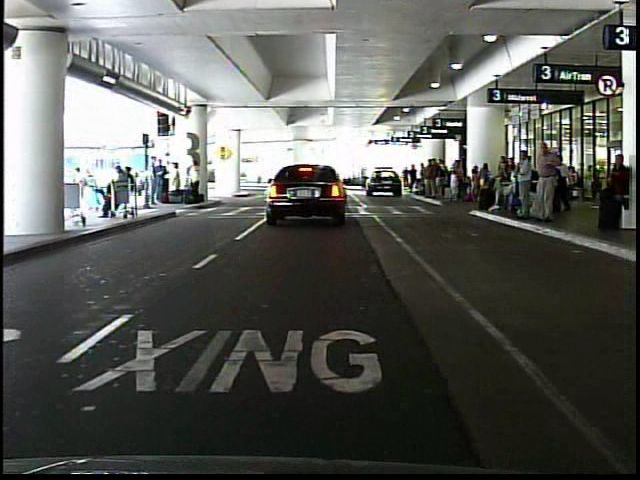person: (529, 136, 565, 229), (597, 151, 628, 230), (514, 147, 533, 223), (76, 160, 100, 217), (154, 157, 169, 204), (187, 158, 202, 202), (171, 160, 185, 203), (402, 165, 411, 192)
